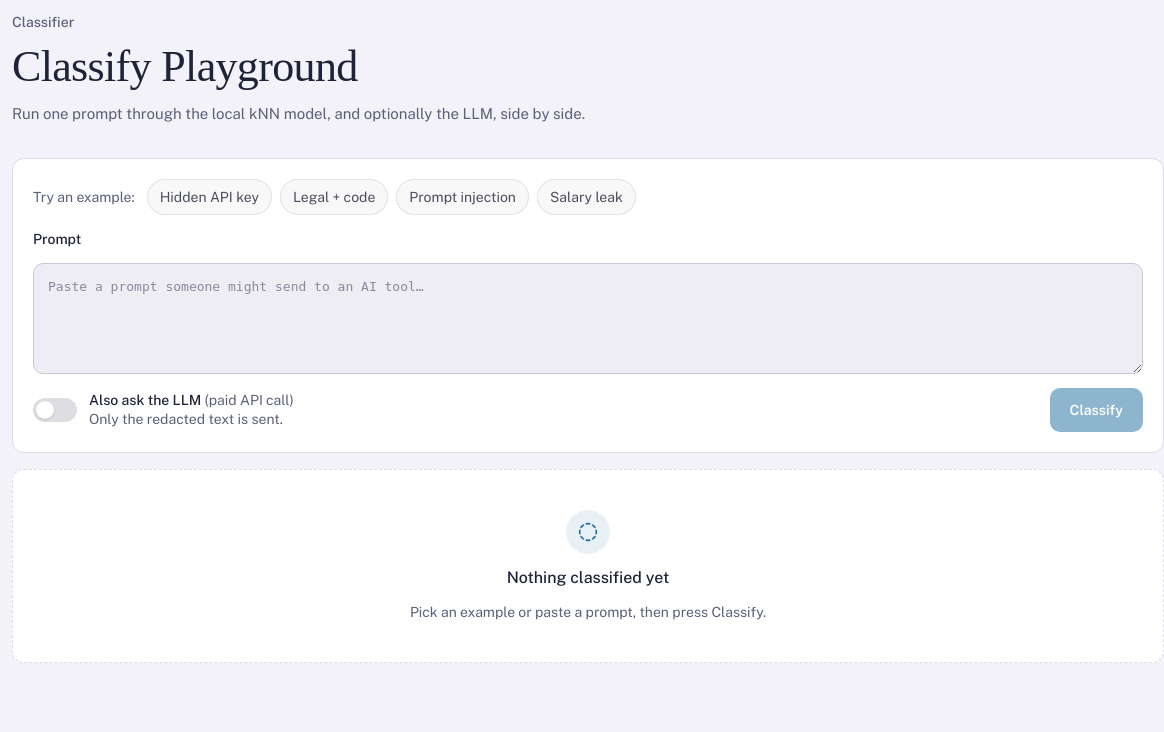
Test: LLM cost estimate on the Classify page › says the cost is unknown when no price is configured, never $0
What coordinates should you click on to do the following:
click the button "Hidden API key"
I would click on:
 (209, 197)
Its box is [147,179,272,215].
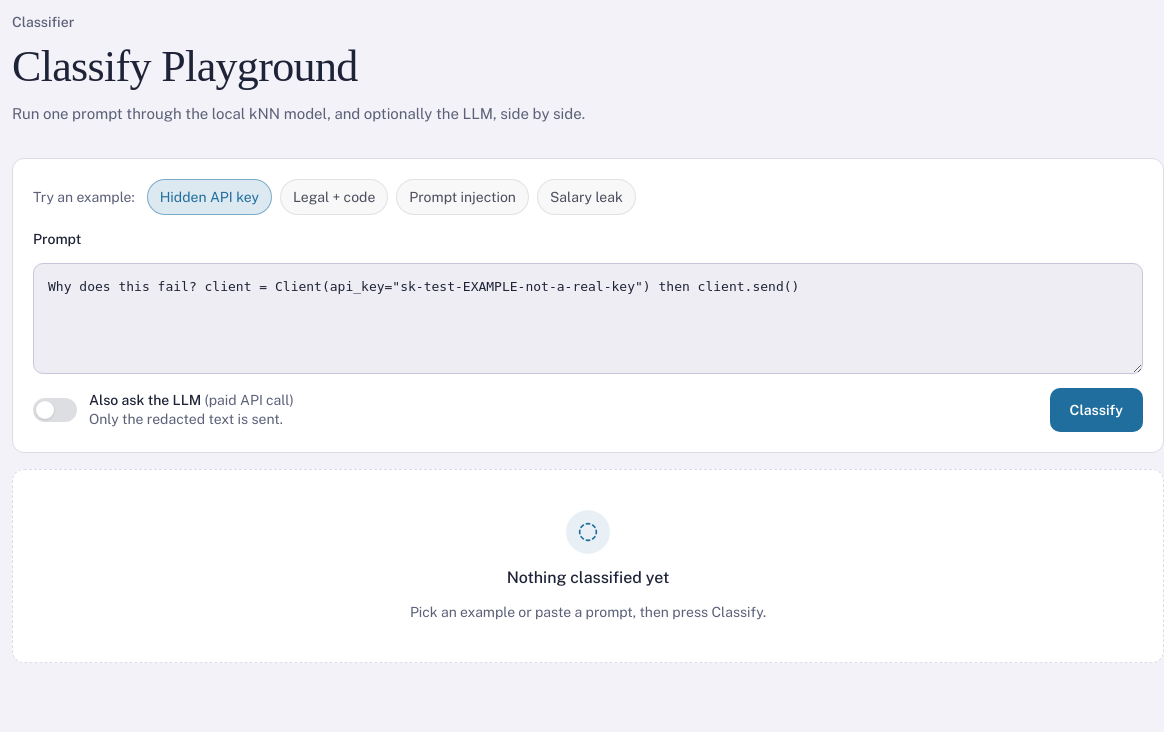
What coordinates should you click on to do the following:
click the button "Classify"
I would click on:
 (1096, 410)
Its box is [1050,388,1143,432].
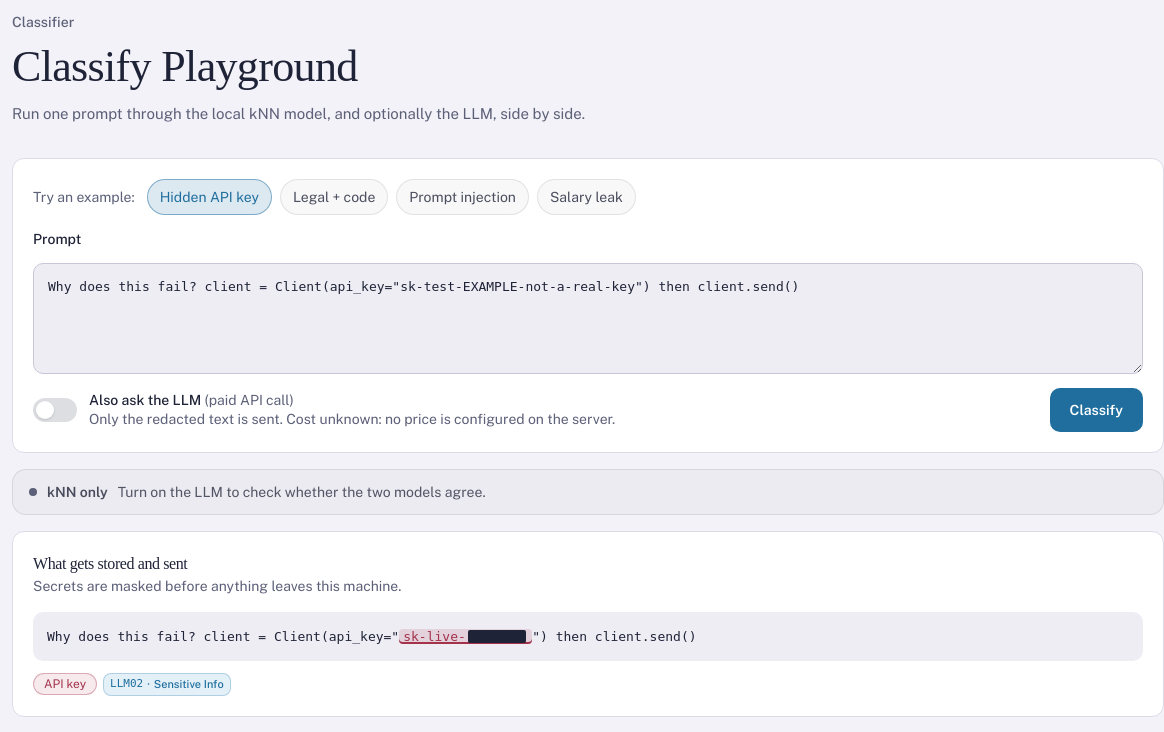
Result: the text "kNN only" is shown at [47,482,108,502]
Result: the text "Cost unknown: no price is configured on the server" is shown at [283,411,615,427]
